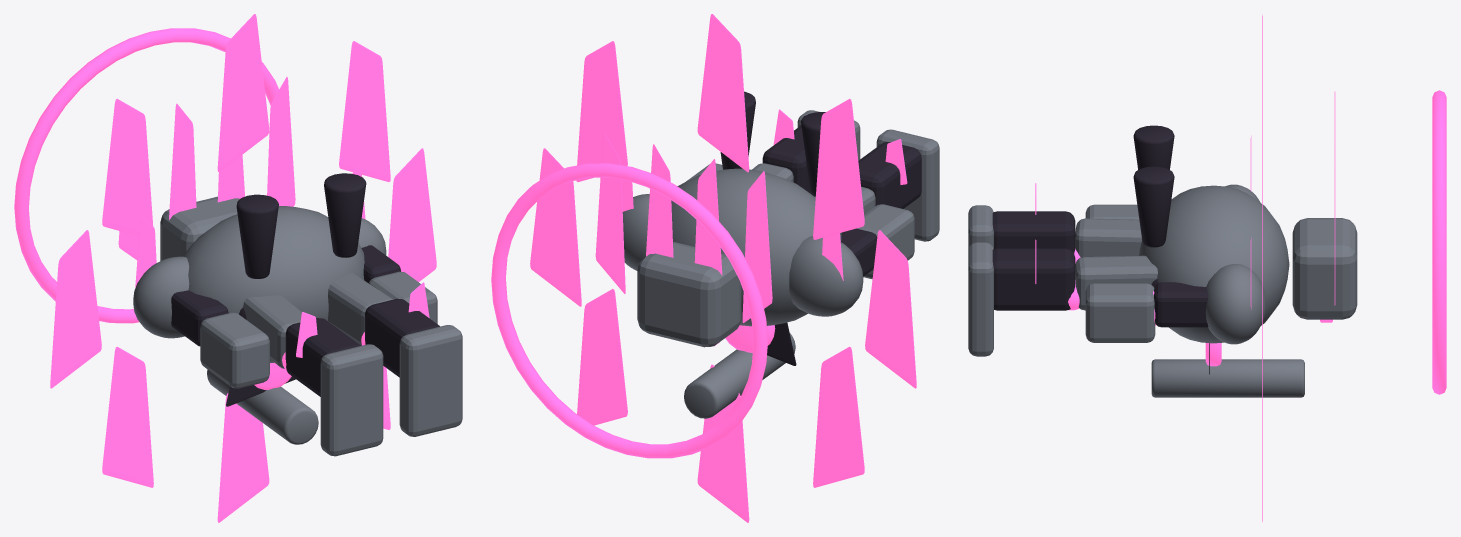
Rendered from boss_lotus_enemy.glb.
The picture shows the model from 3 angles, left to right: view 1: azimuth 30°, elevation 25°; view 2: azimuth 150°, elevation 25°; view 3: azimuth 270°, elevation 25°; orthographic projection. The views are drawn at different scales.
Parts seen in each view (by area): view 1: torso, boss-halo, foot, foot.001, lotus-petal4, lotus-petal2, lotus-petal5, lotus-petal1, lotus-petal3, lotus-petal0, lotus-petal6, forearm (+18 smaller); view 2: boss-halo, head, torso, lotus-petal4, lotus-petal2, lotus-petal5, lotus-petal3, lotus-petal7, lotus-petal0, lotus-petal1, shoulder-shell, lotus-petal6 (+17 smaller); view 3: torso, head, enemy-cannon, lower-leg.001, boss-halo, forearm.001, shoulder-shell.001, lower-leg, foot.001, enemy-thruster.001, upper-leg, upper-leg.001 (+4 smaller).
Boxes of the visible parts, box(x1,y1,x2,y2) form: torso: box(183, 206, 364, 362); boss-halo: box(14, 28, 278, 323); foot: box(320, 344, 383, 456); foot.001: box(399, 325, 462, 436); lotus-petal4: box(50, 230, 101, 388); lotus-petal2: box(217, 14, 269, 172); lotus-petal5: box(102, 346, 153, 487); lotus-petal1: box(339, 41, 390, 181); lotus-petal3: box(102, 98, 153, 236); lotus-petal0: box(388, 148, 436, 281); lotus-petal6: box(217, 393, 269, 522); forearm: box(200, 312, 269, 388); boss-halo: box(491, 163, 767, 458); head: box(637, 242, 741, 347); torso: box(671, 168, 841, 326); lotus-petal4: box(865, 230, 916, 388); lotus-petal2: box(697, 14, 749, 172); lotus-petal5: box(813, 346, 864, 487); lotus-petal3: box(813, 98, 864, 239); lotus-petal7: box(577, 289, 627, 425); lotus-petal0: box(530, 148, 581, 306); lotus-petal1: box(576, 41, 627, 181); shoulder-shell: box(789, 236, 863, 316); lotus-petal6: box(697, 364, 749, 522); torso: box(1139, 185, 1289, 343); head: box(1292, 218, 1357, 319); enemy-cannon: box(1151, 359, 1304, 397); lower-leg.001: box(992, 248, 1075, 310); boss-halo: box(1432, 90, 1446, 394); forearm.001: box(1085, 283, 1155, 342); shoulder-shell.001: box(1205, 264, 1266, 344); lower-leg: box(992, 211, 1075, 253); foot.001: box(968, 242, 993, 356); enemy-thruster.001: box(1133, 166, 1174, 247); upper-leg: box(1075, 218, 1141, 257); upper-leg.001: box(1075, 255, 1157, 310).
Bounding box in the file's own units: 4.38 × 5.42 × 4.9.
